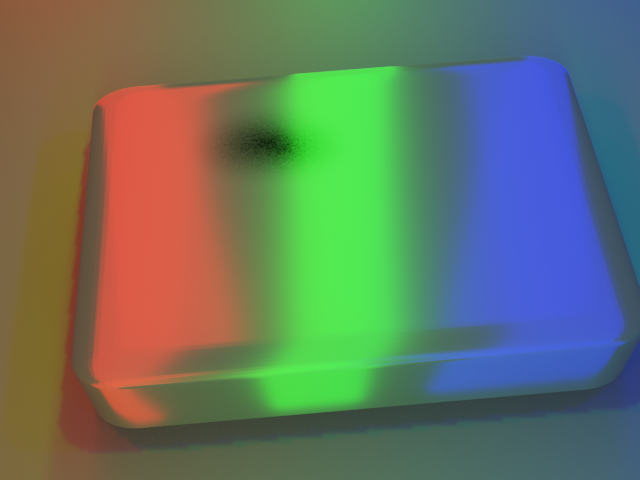stain: (164, 78, 389, 199)
